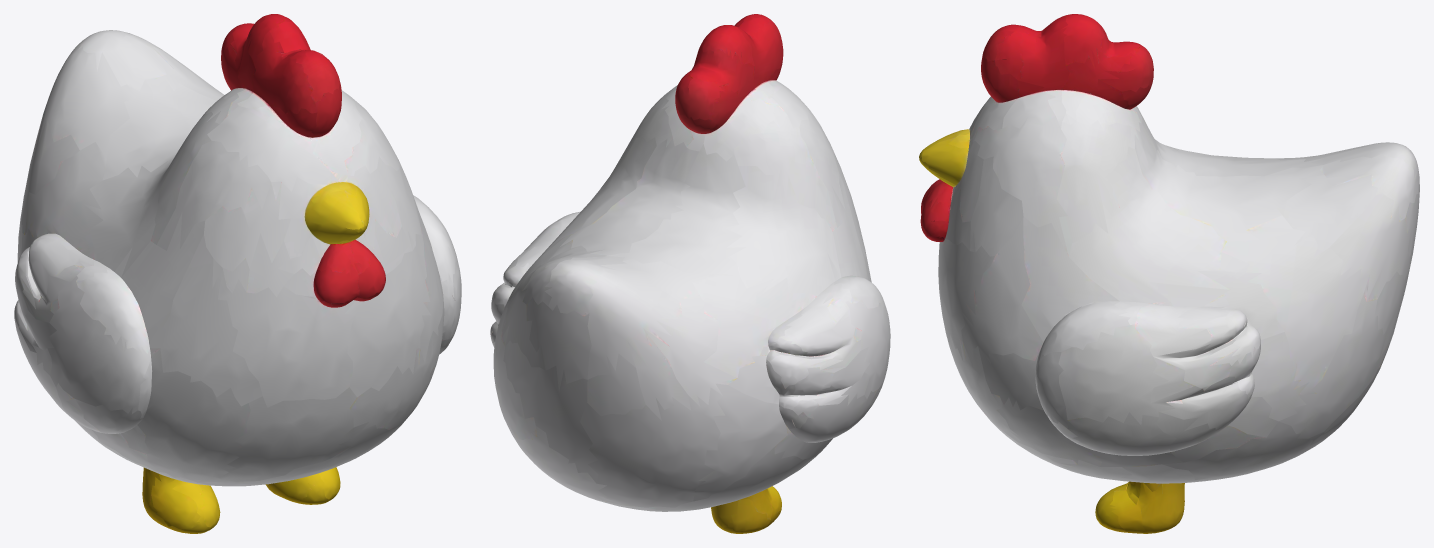
The model's file is kip.glb.
The picture shows the model from 3 angles, left to right: view 1: azimuth 30°, elevation 25°; view 2: azimuth 150°, elevation 25°; view 3: azimuth 270°, elevation 25°; orthographic projection. The views are drawn at different scales.
Visible parts, largest first — view 1: Mesh_0; view 2: Mesh_0; view 3: Mesh_0.
Part boxes in pixels (box(x1,y1,x2,y2)): Mesh_0: box(14, 14, 461, 533); Mesh_0: box(490, 14, 890, 533); Mesh_0: box(919, 14, 1419, 533).
Size of the model in its own units: 1.49 by 1.9 by 1.79.
1 material, 1 textured.
